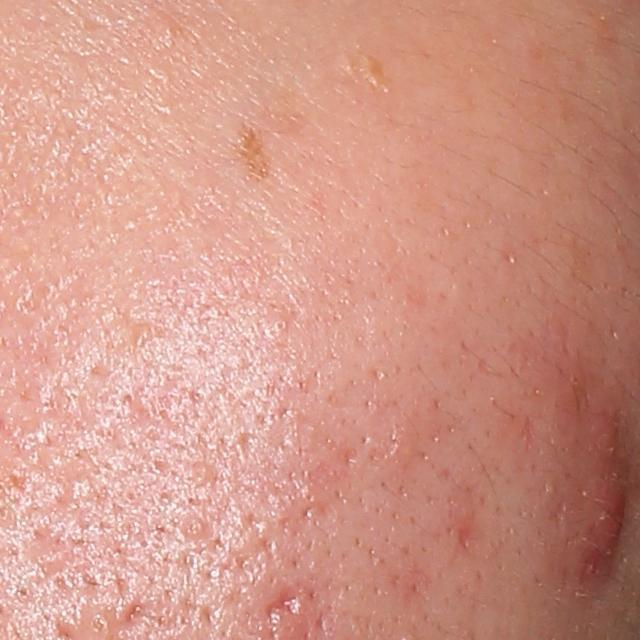atrophic_scar: (261, 581, 305, 626)
comedo: (271, 316, 289, 335)
melasma: (236, 126, 278, 184), (362, 50, 391, 90)
papule: (587, 491, 625, 553)
